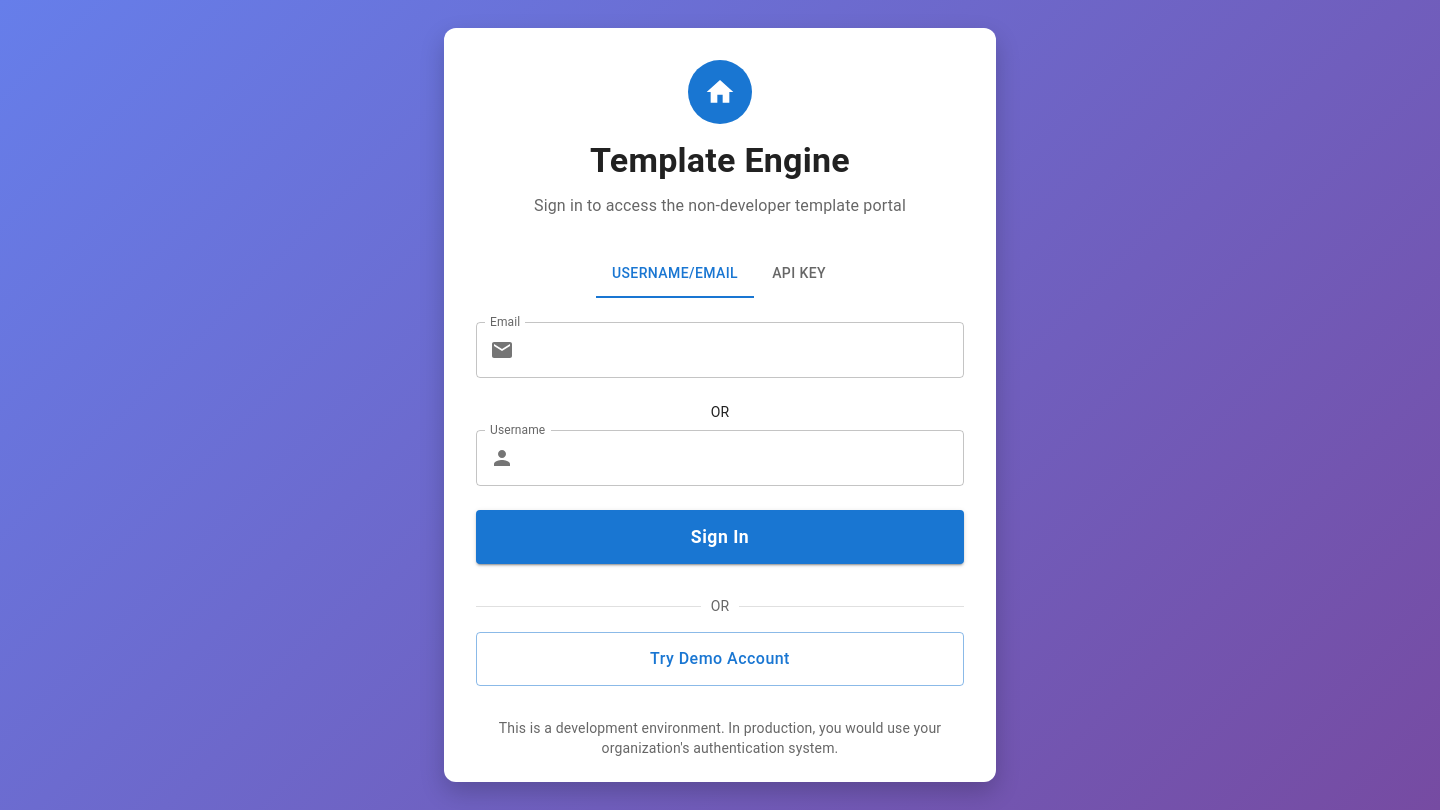
it: LoginPage › Tab Navigation › should switch between Username/Email and API Key tabs
Check: the field labelled "Email" is shown, box [522, 322, 964, 378]
Check: the field labelled "Username" is shown, box [522, 430, 964, 486]
// Switch to API Key tab
Click the tab "API Key": (799,274) [754, 250, 844, 298]
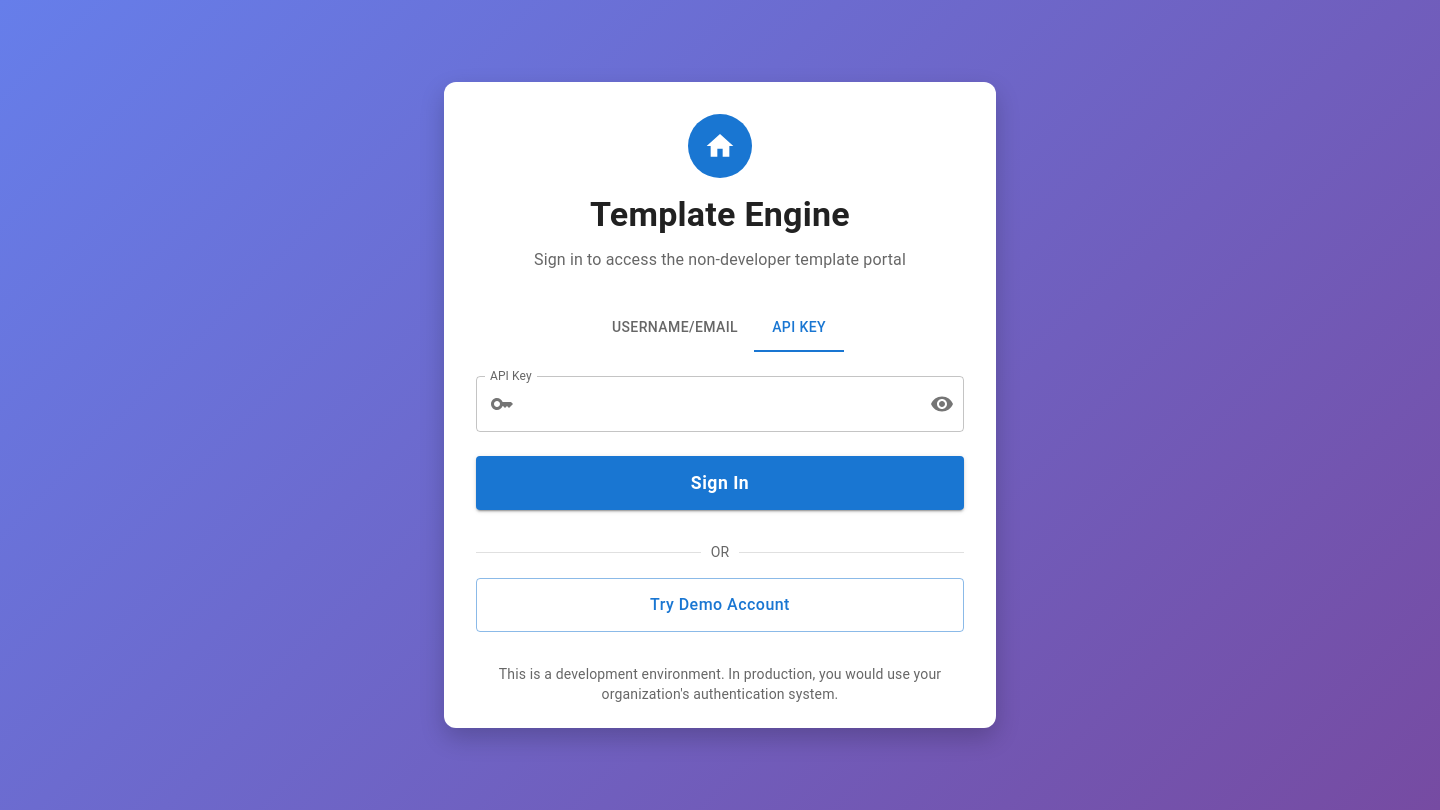
Check: the password field labelled "API Key" is shown, box [522, 376, 914, 432]
